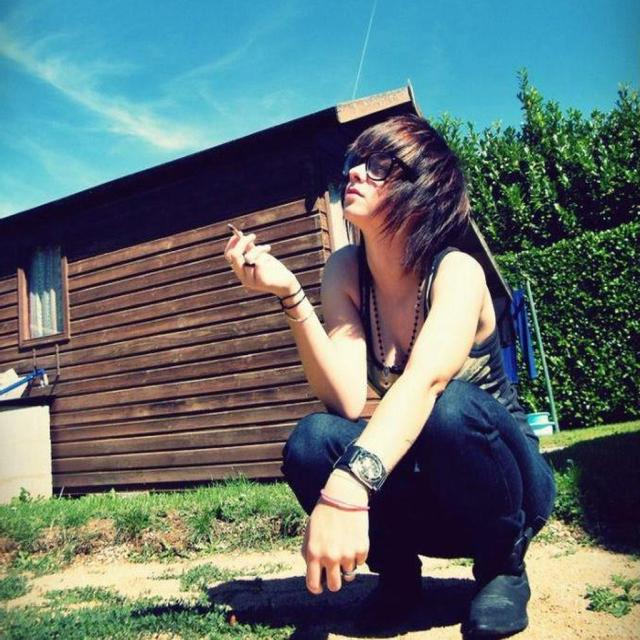smoking: (220, 117, 470, 306)
